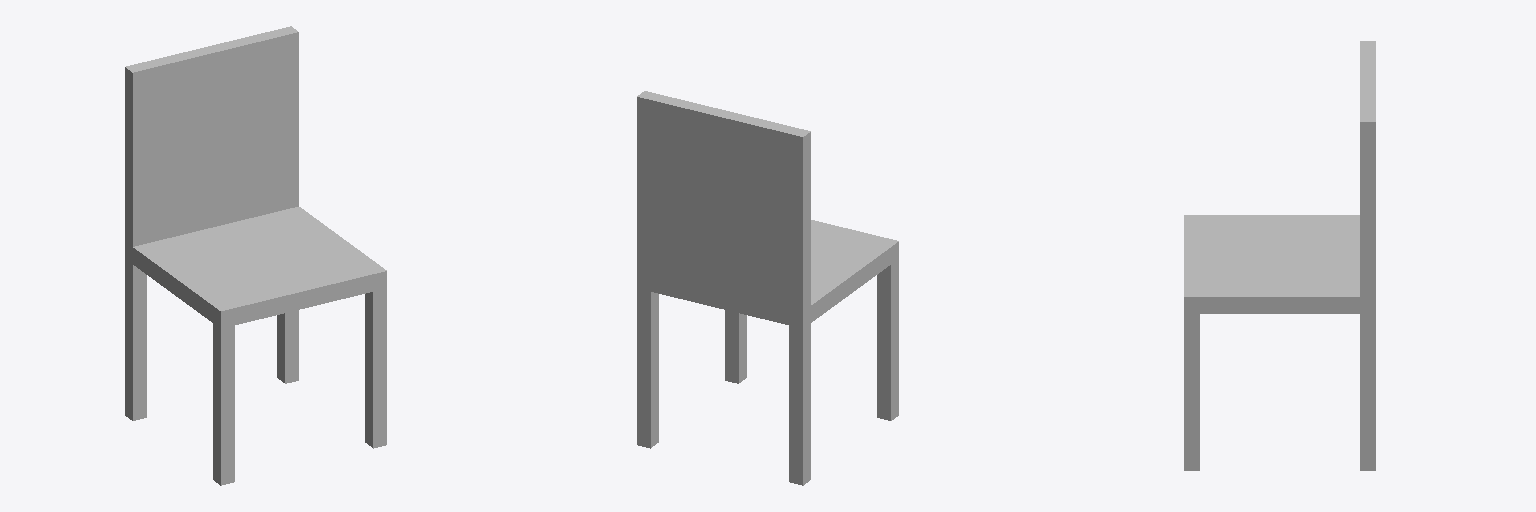
File: chair.obj
The picture shows the model from 3 angles: view 1: azimuth 30°, elevation 25°; view 2: azimuth 150°, elevation 25°; view 3: azimuth 270°, elevation 25°; orthographic projection.
Visible parts, largest first — view 1: Cube_Cube.001; view 2: Cube_Cube.001; view 3: Cube_Cube.001.
Boxes of the visible parts, box(x1,y1,x2,y2) form: Cube_Cube.001: box(125, 26, 386, 485); Cube_Cube.001: box(637, 91, 898, 485); Cube_Cube.001: box(1184, 41, 1375, 470).
Bounding box in the file's own units: 0.5 × 1 × 0.5.